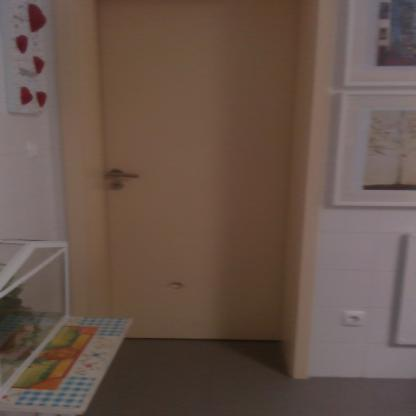door: (100, 0, 290, 339)
lever: (102, 168, 144, 182)
